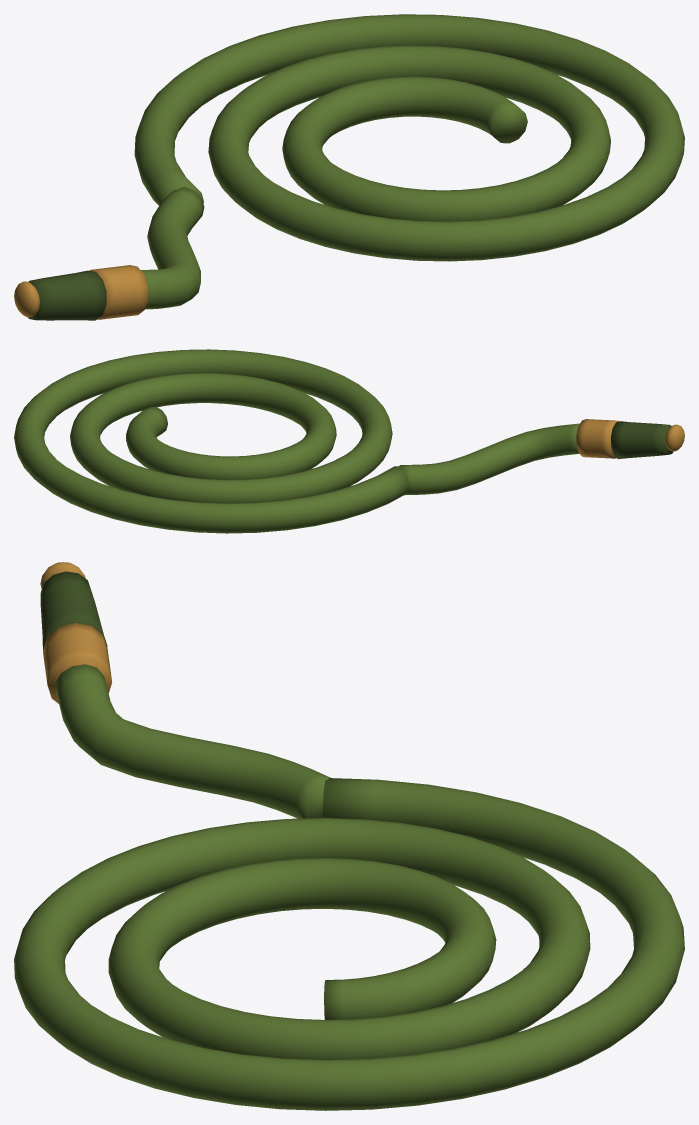
The model's file is garden_hose.glb.
3 views of the same model, one above another, from view 1: azimuth 30°, elevation 25°; view 2: azimuth 150°, elevation 25°; view 3: azimuth 270°, elevation 25° (orthographic). The views are drawn at different scales.
Parts seen in each view (by area): view 1: GardenGeometryGeometry; view 2: GardenGeometryGeometry; view 3: GardenGeometryGeometry.
Part boxes in pixels (left/top/right/bottom): GardenGeometryGeometry: left=14, top=14, right=684, bottom=320; GardenGeometryGeometry: left=14, top=349, right=684, bottom=533; GardenGeometryGeometry: left=14, top=562, right=684, bottom=1110.
Bounding box in the file's own units: 2.35 × 0.252 × 1.45.
